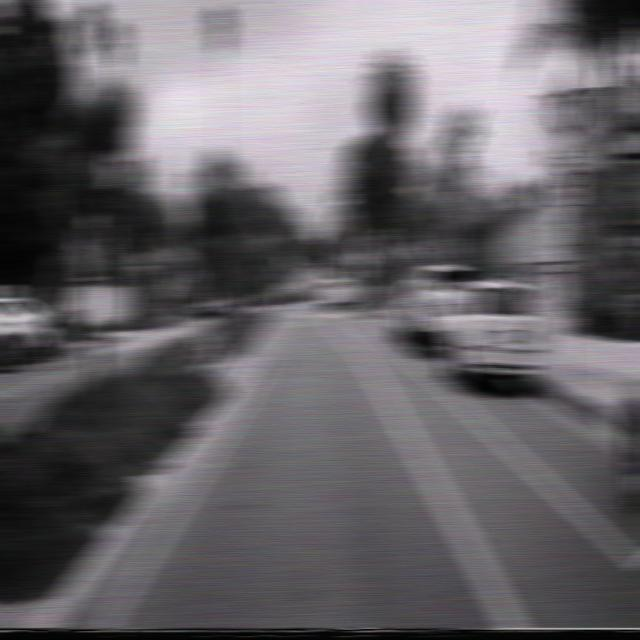pedestrianCrossing: (350, 245, 373, 270)
